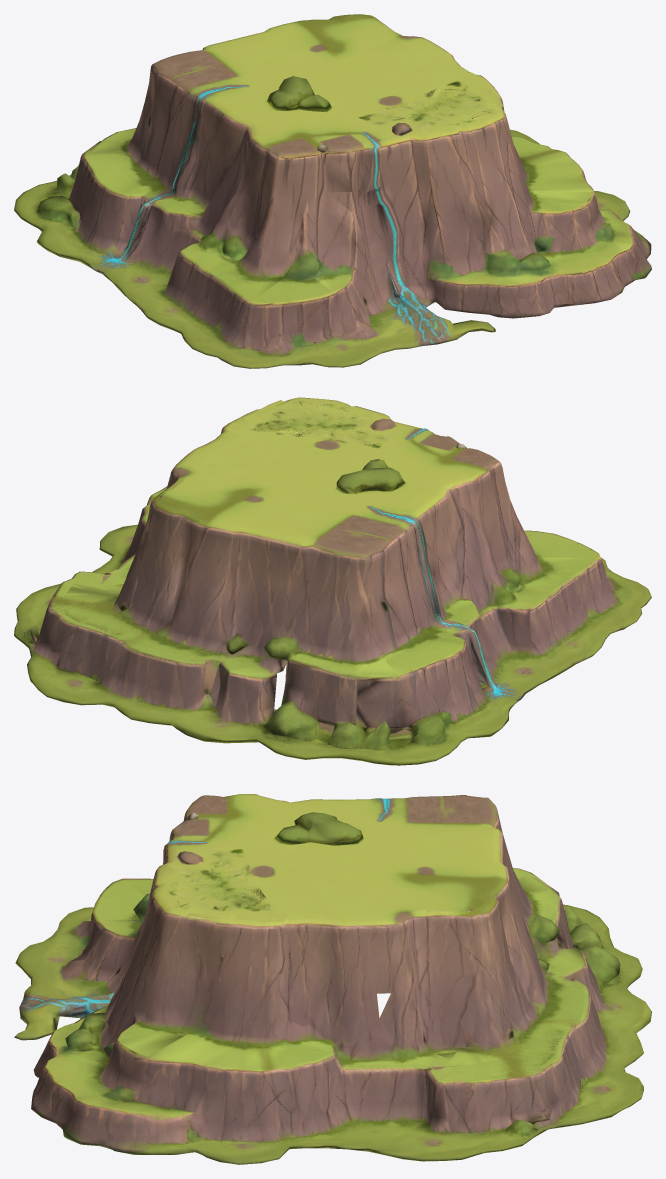
File: hill_1.fbx
The picture shows the model from 3 angles, top to bottom: view 1: azimuth 30°, elevation 25°; view 2: azimuth 150°, elevation 25°; view 3: azimuth 270°, elevation 25°; orthographic projection. The views are drawn at different scales.
Parts seen in each view (by area): view 1: mesh_node; view 2: mesh_node; view 3: mesh_node.
Part boxes in pixels (x1,y1,x2,y2): mesh_node: (14,14,651,368); mesh_node: (14,397,651,765); mesh_node: (14,794,651,1164).
Size of the model in its own units: 1522 by 500 by 1541.
1 material, 1 textured.
